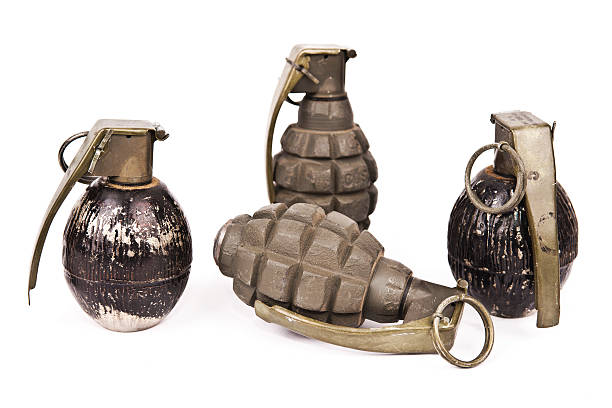e1: (209, 203, 482, 373), (23, 110, 189, 334), (443, 107, 580, 329)
